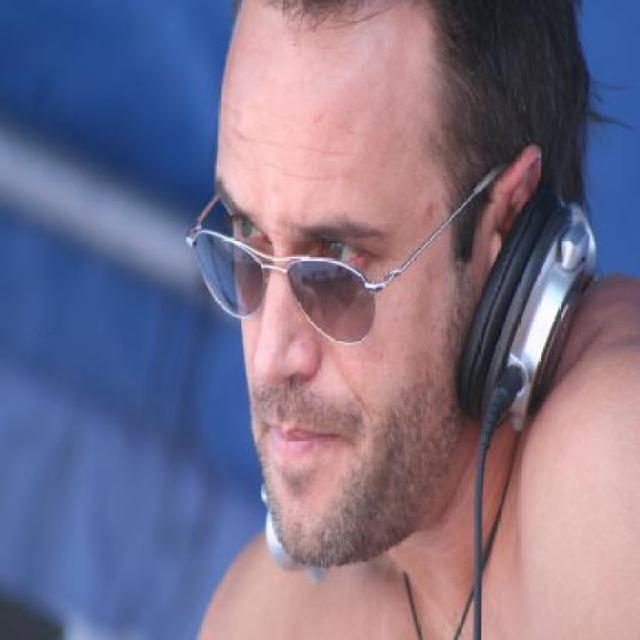earphone: (432, 171, 598, 551)
